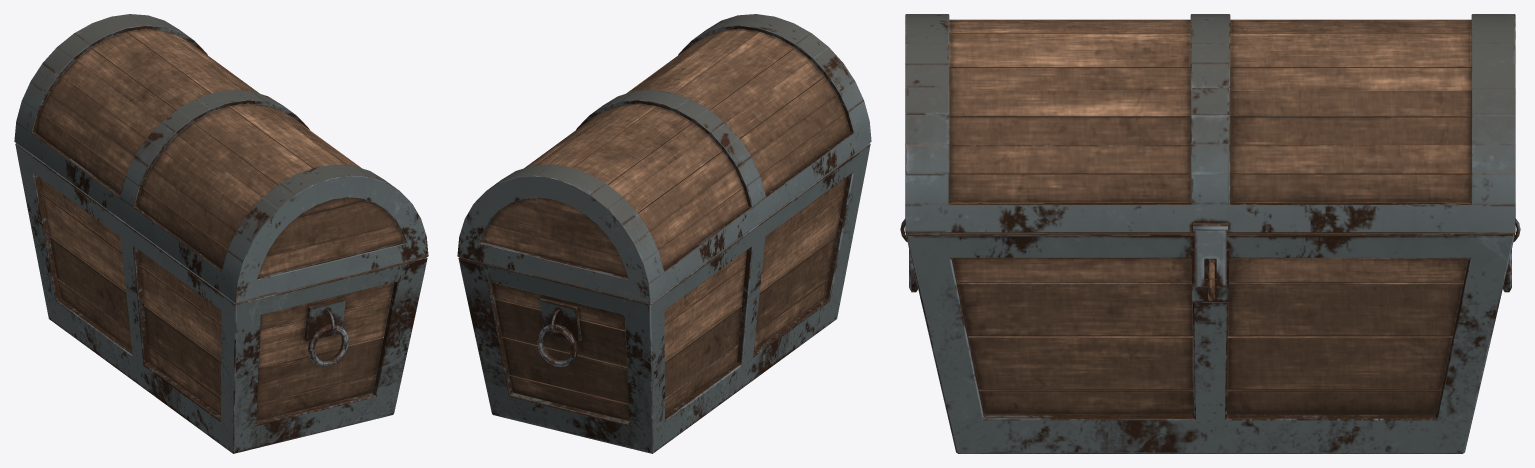
The model's file is chest.glb.
3 renders of one model, left to right at view 1: azimuth 30°, elevation 25°; view 2: azimuth 150°, elevation 25°; view 3: azimuth 270°, elevation 25°, orthographic. The views are drawn at different scales.
Parts seen in each view (by area): view 1: Treasure Chest; view 2: Treasure Chest; view 3: Treasure Chest.
Part boxes in pixels (left/top/right/bottom): Treasure Chest: left=14, top=14, right=428, bottom=453; Treasure Chest: left=457, top=14, right=871, bottom=453; Treasure Chest: left=900, top=14, right=1520, bottom=453.
Size of the model in its own units: 2.66 by 3.32 by 5.01.
1 material, 1 textured.
